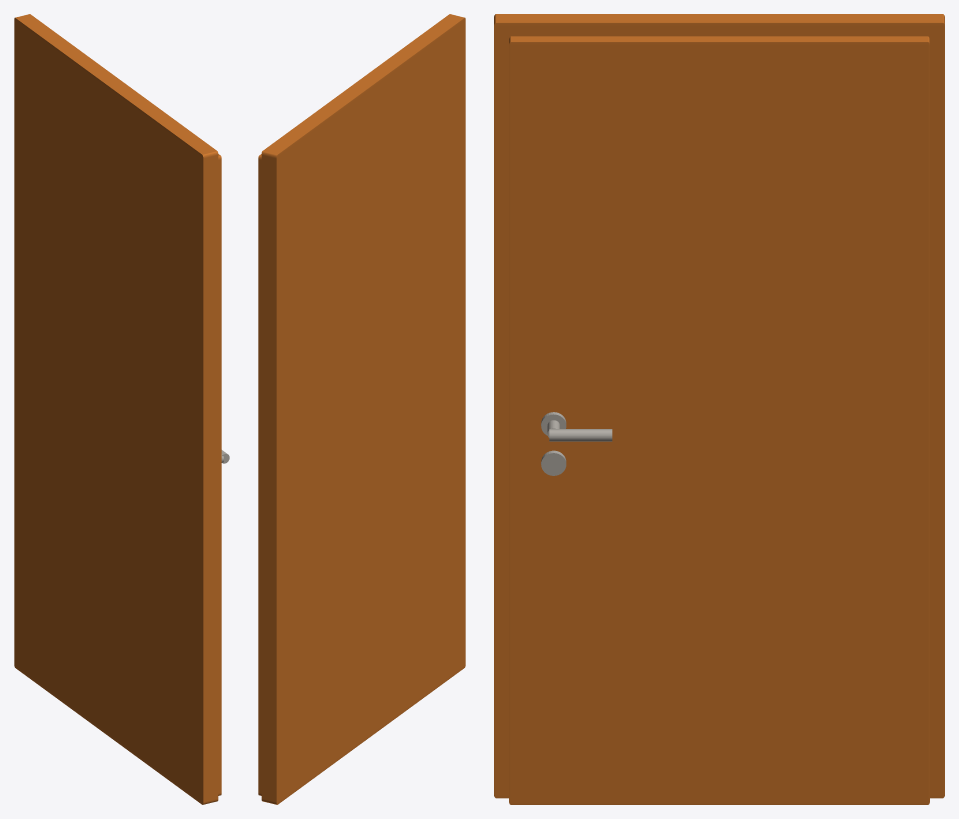
File: Door.fbx
3 views of the same model, side by side, from view 1: azimuth 30°, elevation 25°; view 2: azimuth 150°, elevation 25°; view 3: azimuth 270°, elevation 25° (orthographic). The views are drawn at different scales.
Visible parts, largest first — view 1: Cube.001, Cube; view 2: Cube.001, Cube; view 3: Cube, Cube.001, Cylinder.
Boxes of the visible parts, x1,y1,x2,y2 form: Cube.001: [14, 14, 218, 804]; Cube: [218, 154, 221, 795]; Cube.001: [261, 14, 465, 804]; Cube: [258, 154, 261, 795]; Cube: [509, 36, 929, 804]; Cube.001: [494, 14, 944, 798]; Cylinder: [549, 429, 612, 441].
Size of the model in its own units: 32.5 by 407 by 214.
